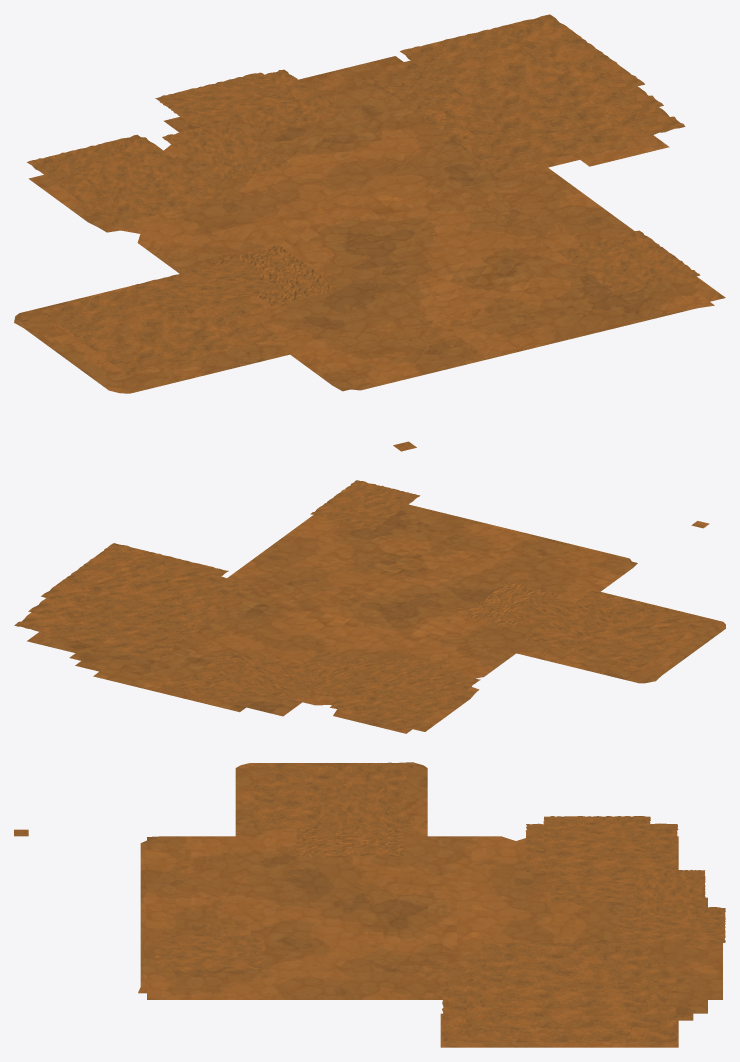
File: Floor_Ruin3.fbx
3 renders of one model, top to bottom at view 1: azimuth 30°, elevation 25°; view 2: azimuth 150°, elevation 25°; view 3: azimuth 270°, elevation 25°, orthographic. The views are drawn at different scales.
Parts seen in each view (by area): view 1: UpperFloors; view 2: UpperFloors; view 3: UpperFloors.
Part boxes in pixels (x1,y1,x2,y2): UpperFloors: (14, 14, 725, 451); UpperFloors: (14, 480, 725, 733); UpperFloors: (14, 762, 725, 1047).
Bounding box in the file's own units: 5070 × 322 × 5196.
